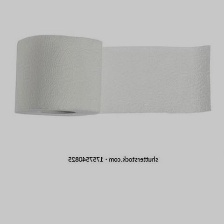tissue: (8, 27, 218, 122)
